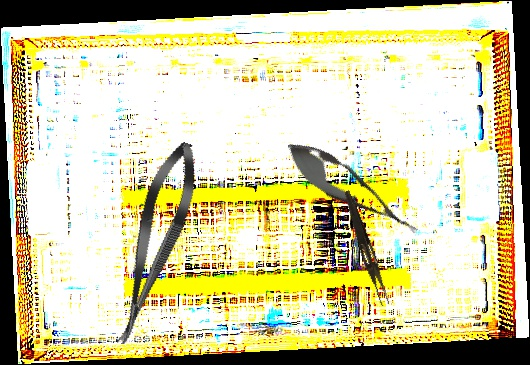Dressing Forceps: (337, 189, 395, 307)
Micro Scissor: (100, 136, 209, 351), (276, 130, 428, 248)
